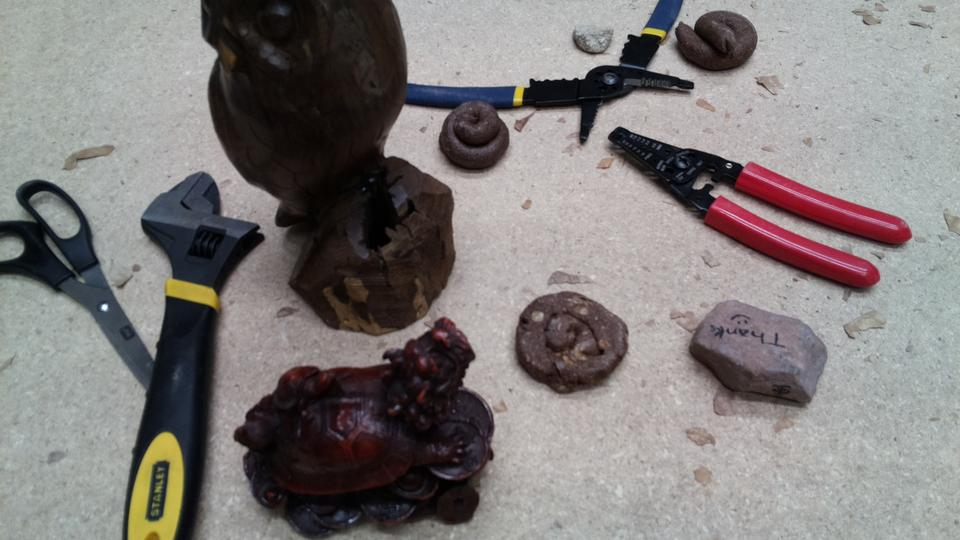poop: (511, 287, 632, 397), (437, 97, 513, 175), (672, 9, 760, 74)
